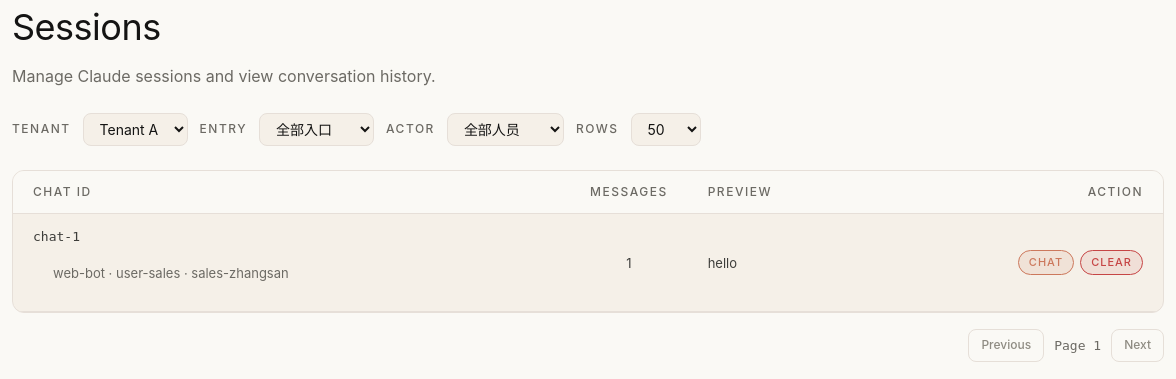
it: Sessions page › archives runtime sessions through the runtime API
Expected: the text "chat-1" is shown, [33,229,80,244]
Click the button "Clear" at (1112, 263), box [1080,250,1143,275]
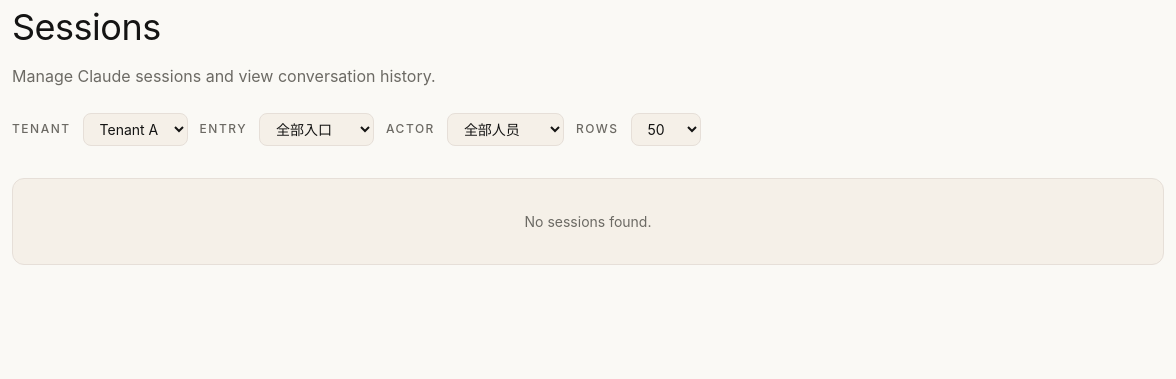
Now the text "chat-1" is gone
